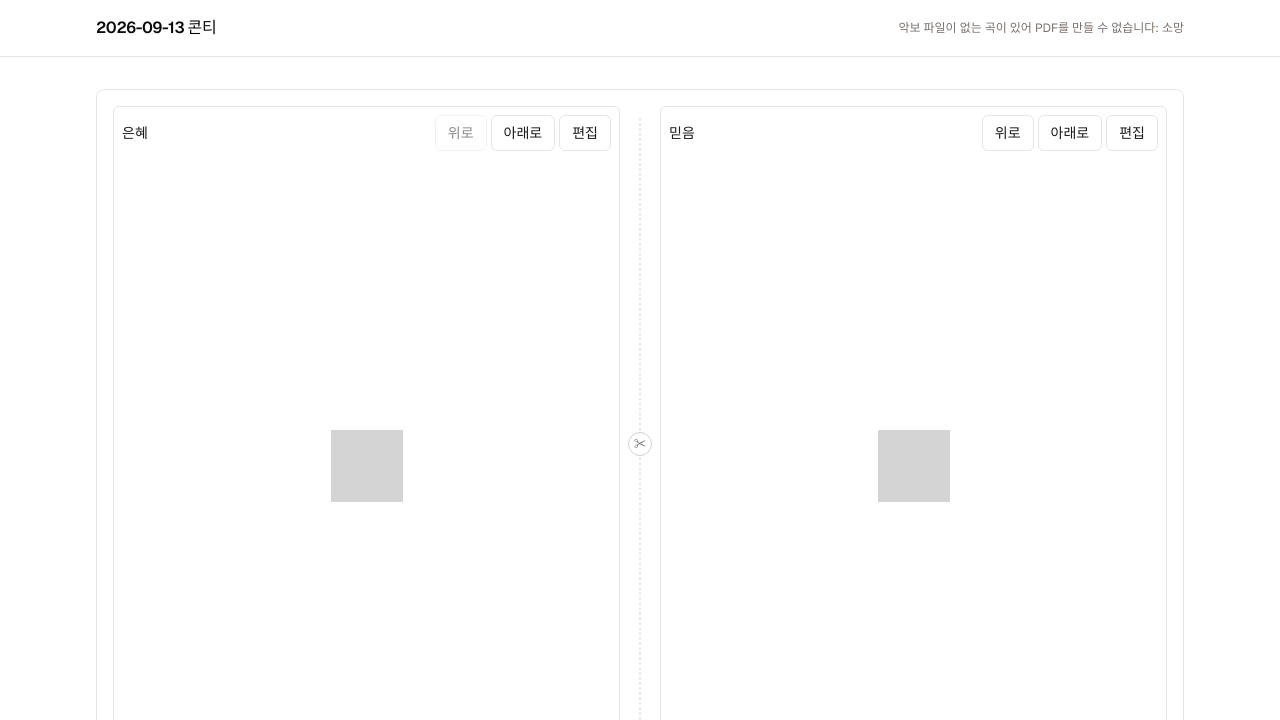
Test case: 순서 변경 › 실패한 뒤 성공하면 이전 오류 문구가 사라져야 한다
The width and height of the screenshot is (1280, 720).
What coordinates should you click on to do the following:
click the button with aria-label "믿음 아래로"
I would click on:
 (1070, 133)
Its box is [1038,115,1102,151].
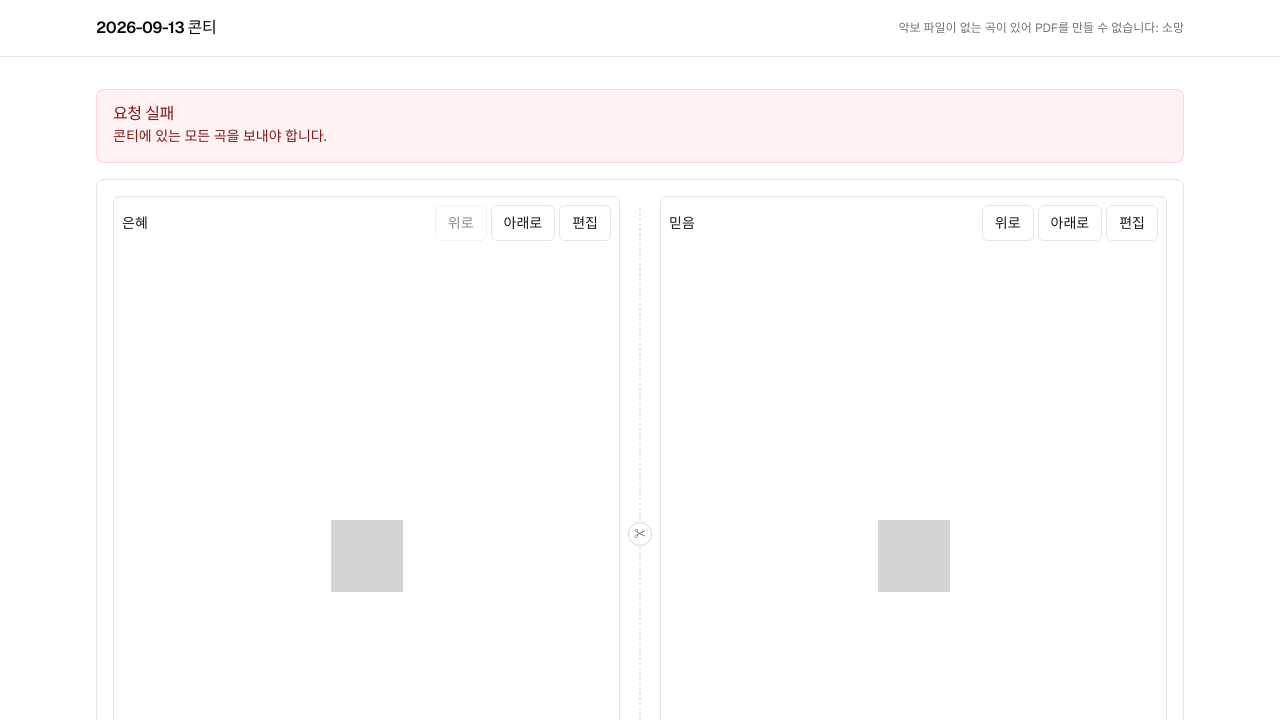
Now the message "요청 실패 콘티에 있는 모든 곡을 보내야 합니다." is shown, box [96,89,1184,163]
What coordinates should you click on to do the following:
click the button with aria-label "믿음 아래로"
I would click on:
 (1070, 223)
Its box is [1038,205,1102,241].
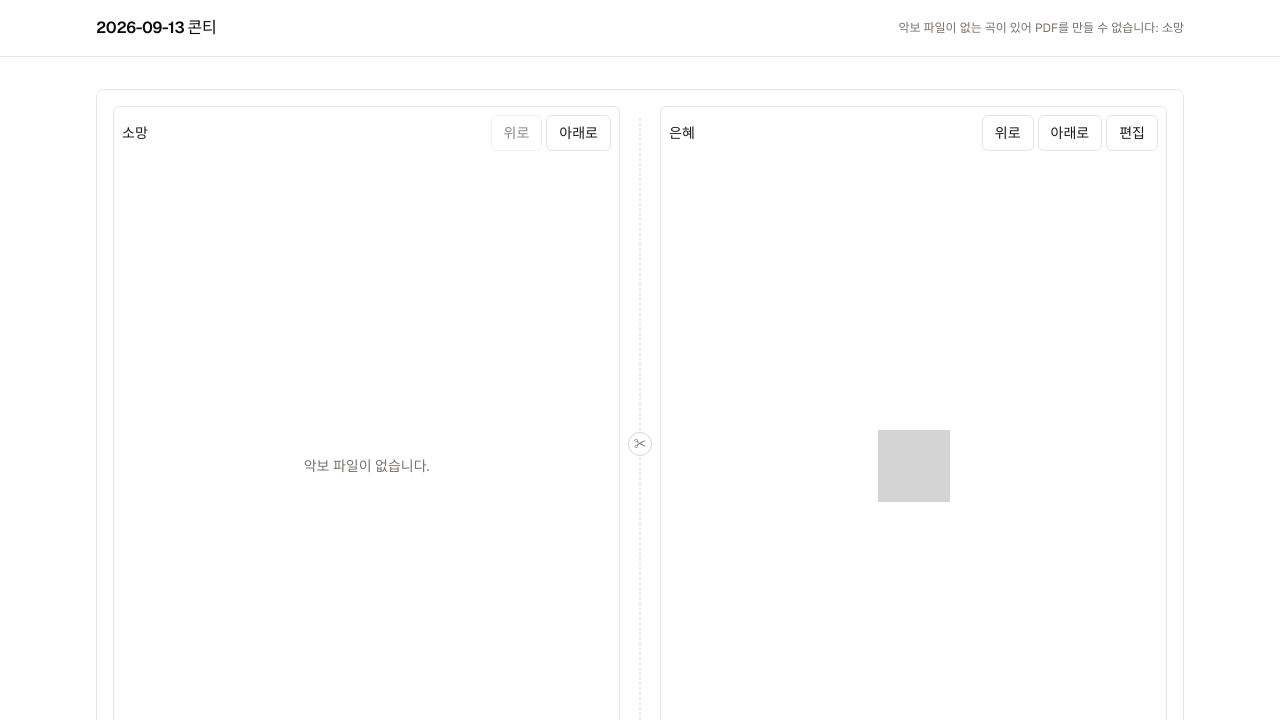
Now the message "요청 실패 콘티에 있는 모든 곡을 보내야 합니다." is gone
